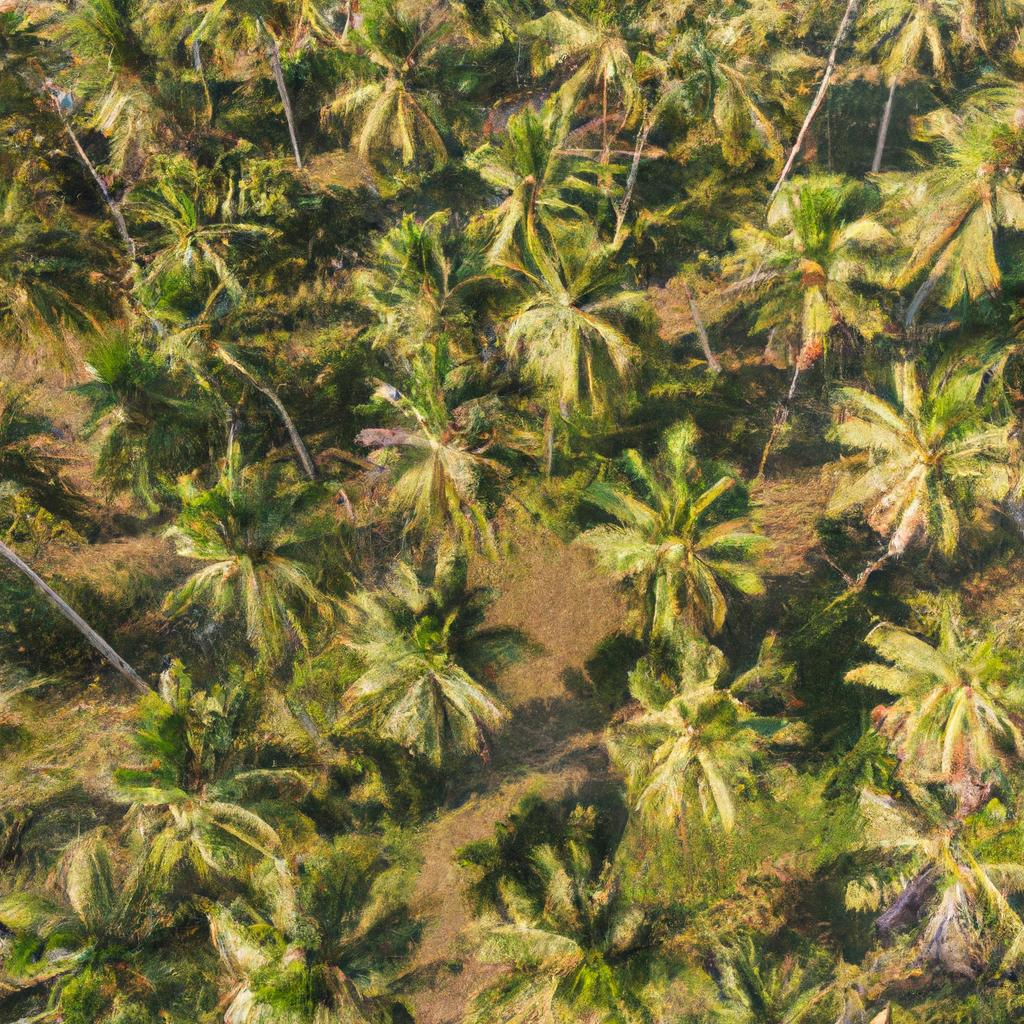coconut_tree: (827, 340, 1023, 566), (577, 410, 772, 637), (203, 845, 435, 1023), (350, 543, 529, 766), (835, 581, 1023, 793), (159, 440, 335, 662), (718, 174, 927, 350), (478, 226, 678, 391), (504, 205, 667, 401), (315, 4, 492, 175)
